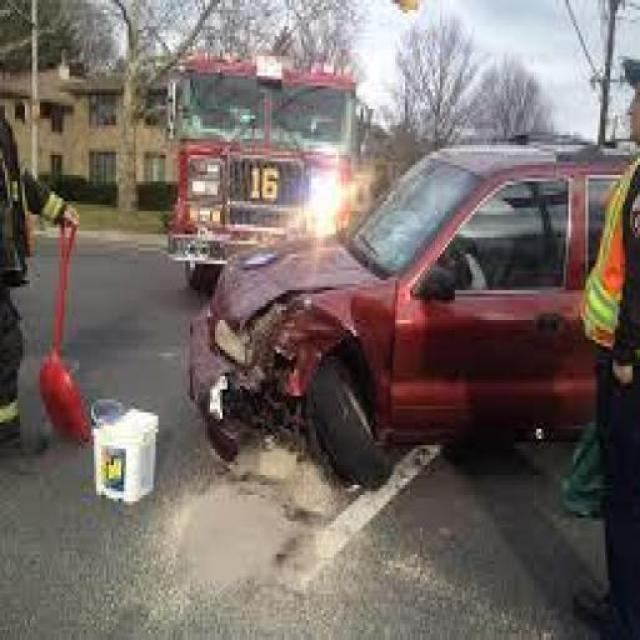crush: (186, 252, 401, 452)
